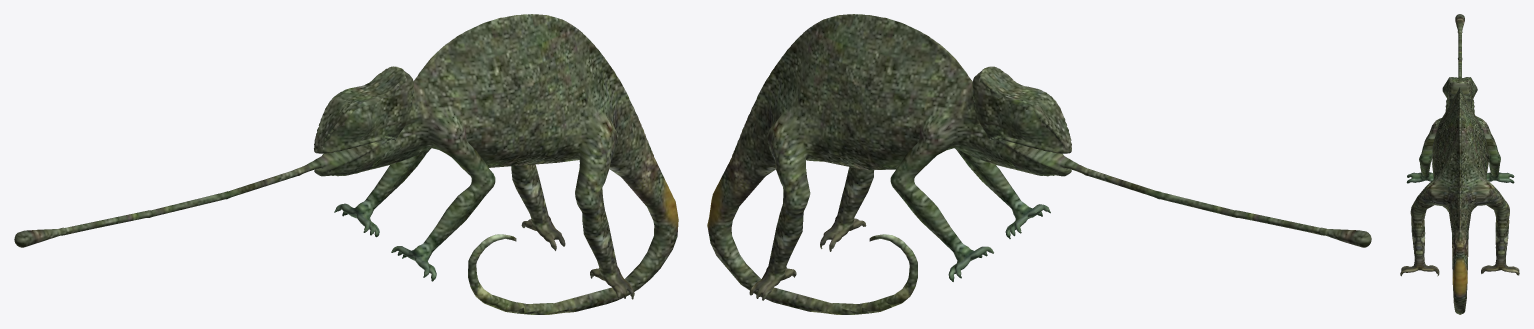
Rendered from chameleon.dae.
3 renders of one model, left to right at view 1: azimuth 30°, elevation 25°; view 2: azimuth 150°, elevation 25°; view 3: azimuth 270°, elevation 25°, orthographic. The views are drawn at different scales.
Parts seen in each view (by area): view 1: chamaL; view 2: chamaL; view 3: chamaL.
Boxes of the visible parts, box(x1,y1,x2,y2) form: chamaL: box(14, 14, 678, 314); chamaL: box(707, 14, 1371, 314); chamaL: box(1400, 14, 1519, 314).
Size of the model in its own units: 0.86 by 0.2264 by 0.388.
